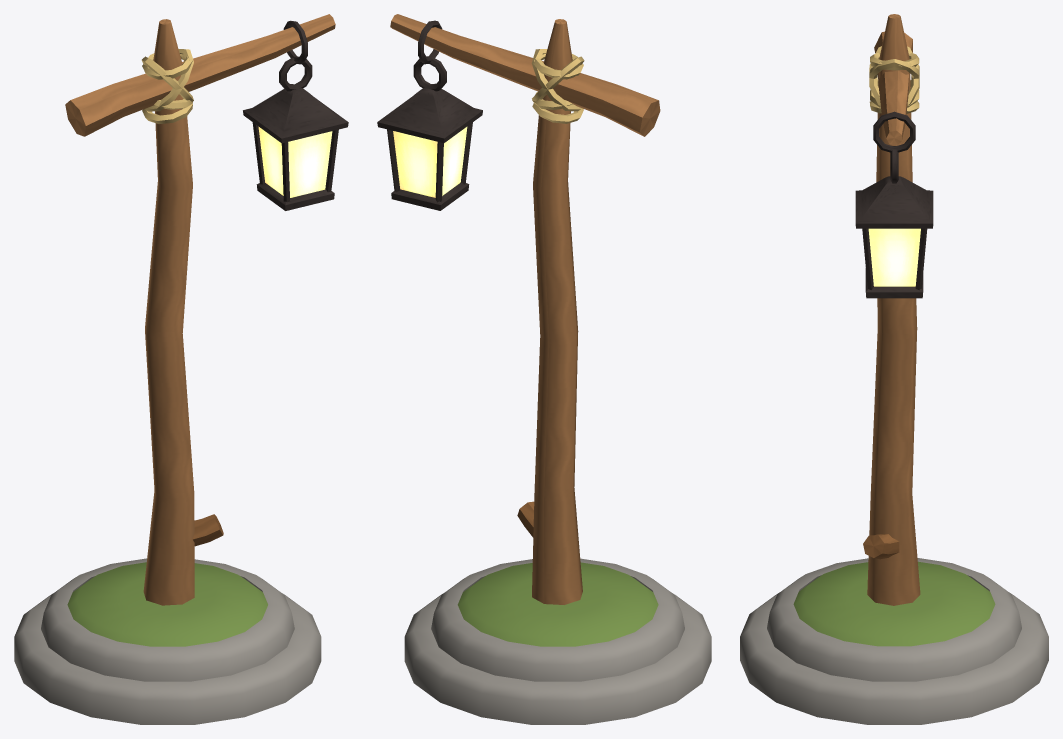
File: branch-post-lamp.glb
3 views of the same model, side by side, from view 1: azimuth 30°, elevation 25°; view 2: azimuth 150°, elevation 25°; view 3: azimuth 270°, elevation 25° (orthographic).
Visible parts, largest first — view 1: branch-post-lamp; view 2: branch-post-lamp; view 3: branch-post-lamp.
Part boxes in pixels (<box>): branch-post-lamp: <box>14,14,348,724</box>; branch-post-lamp: <box>377,14,711,724</box>; branch-post-lamp: <box>740,14,1048,724</box>.
Bounding box in the file's own units: 1.16 × 2.39 × 1.04.
Materials: 5 (3 with a texture image).
